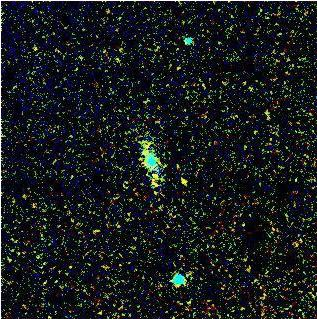star: (169, 166, 199, 196)
